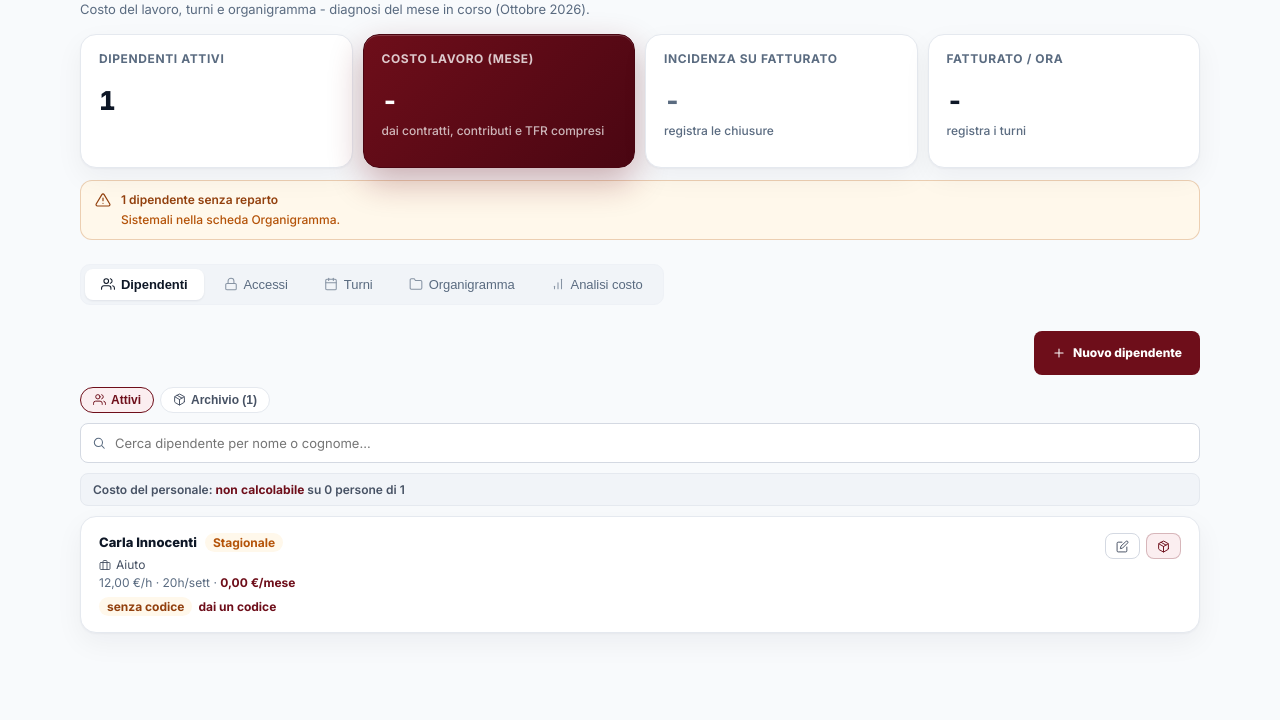
Test: La finestra dice cosa sparisce, coi numeri › conta i turni della persona
Click the button "Archivio (1)" at {"x": 215, "y": 400}, box [160,386,270,412]
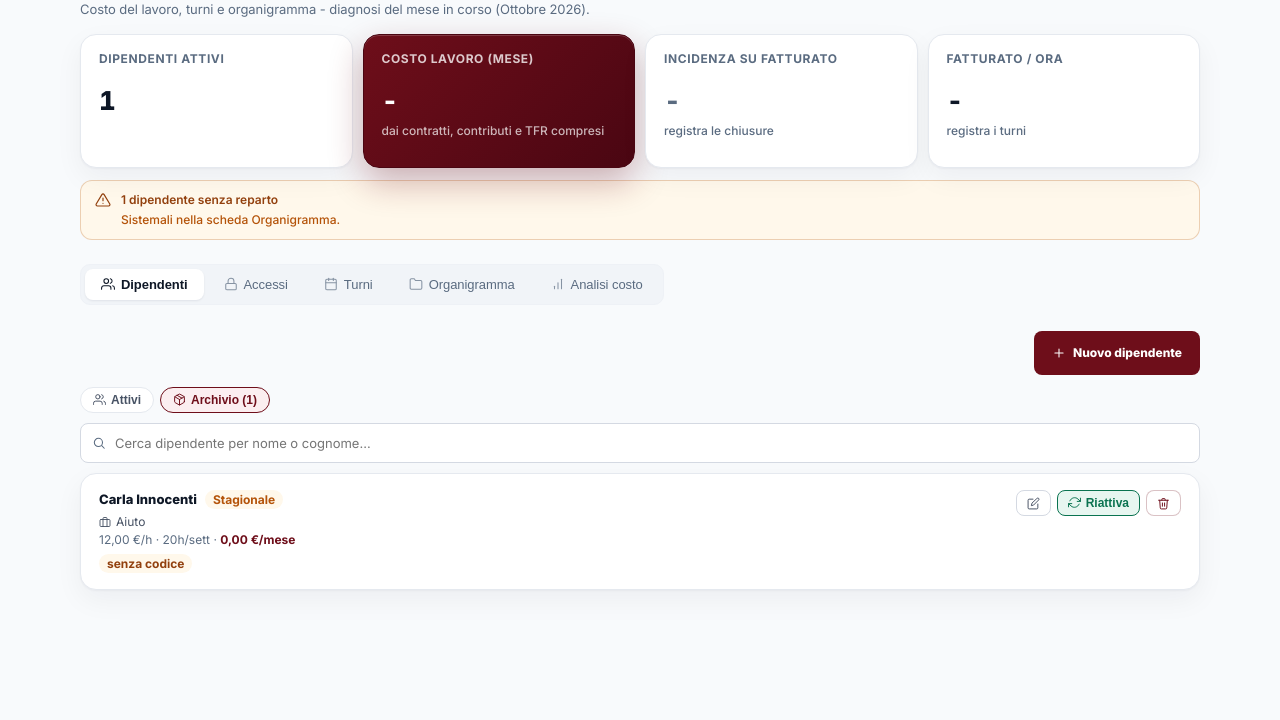
Expected: the text "Carla Innocenti" is shown, [99,491,197,507]
Click the button named "Elimina definitivamente Carla Innocenti" at {"x": 1164, "y": 502}, box [1146,490,1181,516]
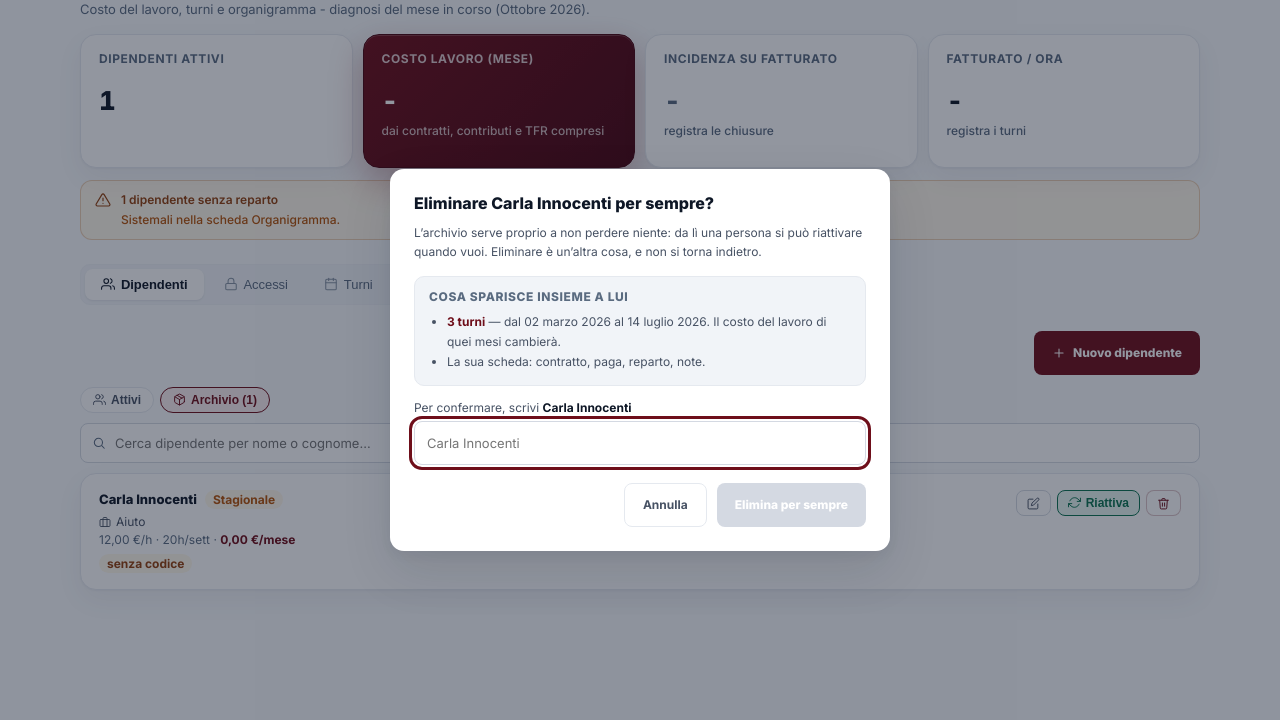
Expected: the text "3 turni" is shown, [447,314,485,329]
